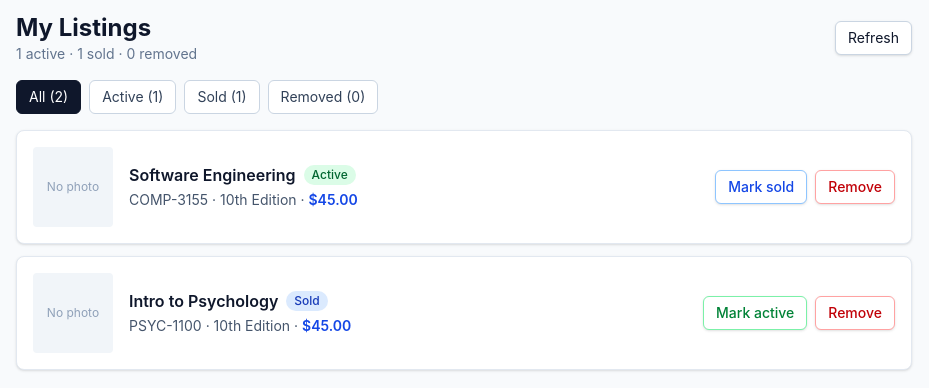
Test: MyListingsView Component (US-07) › filters listings by status
The image size is (929, 388).
Expected: the heading "Software Engineering" is shown, x1=129 y1=164 x2=296 y2=186
Click the tab "Sold (1)" at (222, 97), box x1=184 y1=80 x2=260 y2=114
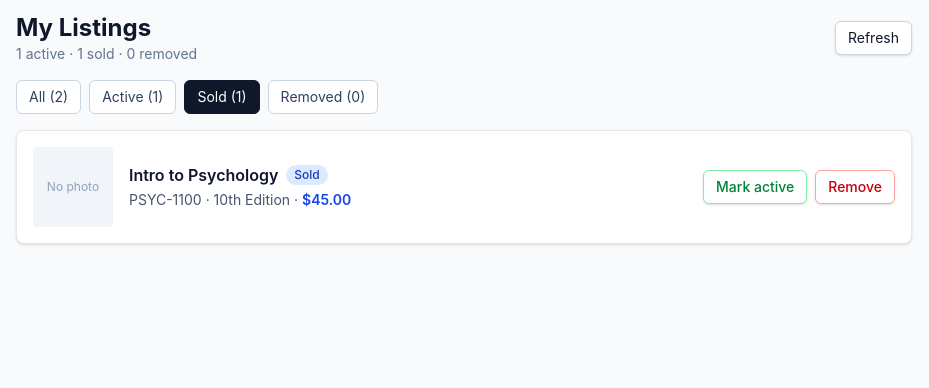
Expected: the heading "Intro to Psychology" is shown, x1=129 y1=164 x2=278 y2=186
Now the heading "Software Engineering" is gone
Click the tab "Removed (0)" at (323, 97), box x1=268 y1=80 x2=378 y2=114
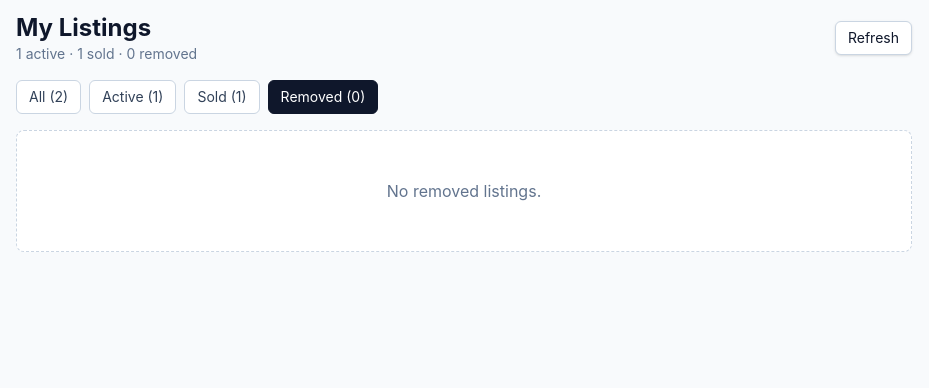
Now the text "No removed listings." is shown, box x1=16 y1=130 x2=912 y2=252
Click the tab "All (2)" at (49, 97), box x1=16 y1=80 x2=81 y2=114
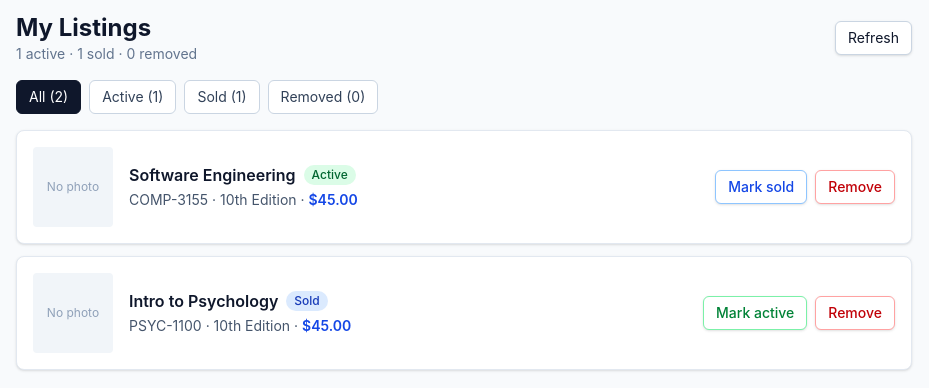
Now the heading "Software Engineering" is shown, box x1=129 y1=164 x2=296 y2=186
